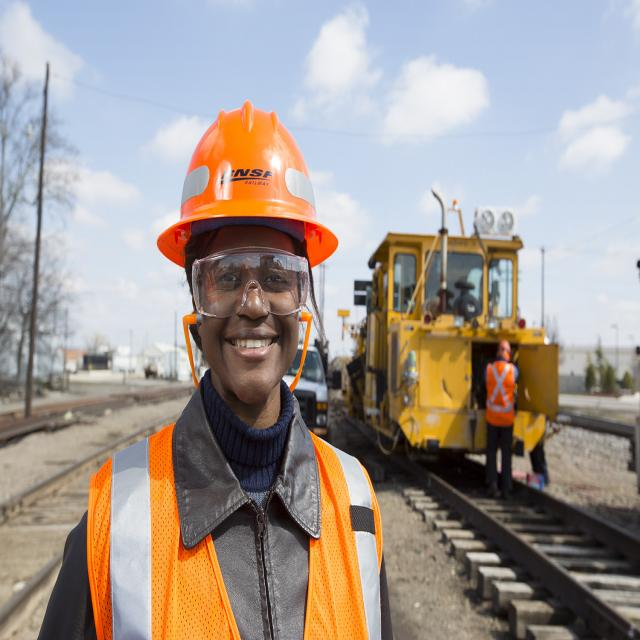Reflective-Jacket: (86, 401, 386, 640), (484, 358, 518, 428)
Safety-Helmet: (155, 96, 342, 277), (495, 336, 514, 356)
